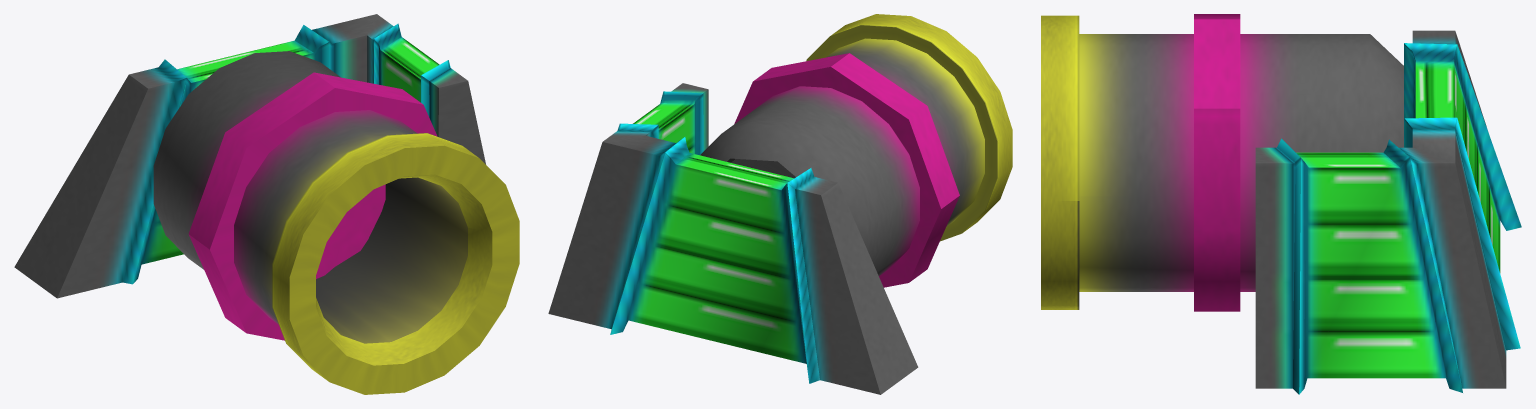
The model's file is WeaponRocketLauncher.FBX.
3 renders of one model, left to right at view 1: azimuth 30°, elevation 25°; view 2: azimuth 150°, elevation 25°; view 3: azimuth 270°, elevation 25°, orthographic. The views are drawn at different scales.
Parts seen in each view (by area): view 1: Cylinder003; view 2: Cylinder003; view 3: Cylinder003.
Boxes of the visible parts, bbox=[...] form: Cylinder003: bbox=[14, 14, 519, 394]; Cylinder003: bbox=[548, 14, 1012, 394]; Cylinder003: bbox=[1041, 14, 1521, 394].
Bounding box in the file's own units: 50.44 × 32.58 × 49.45.
Materials: 1 (1 with a texture image).
